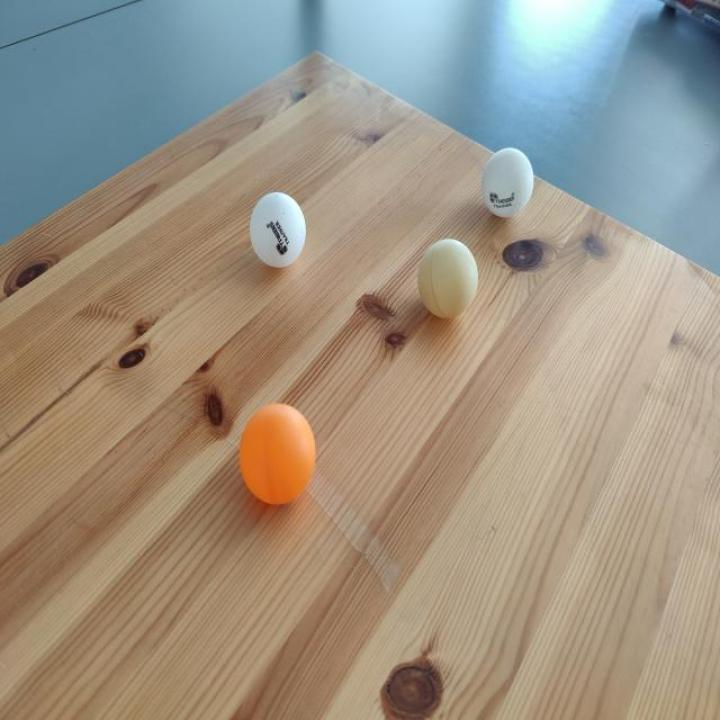orange: (236, 405, 318, 509)
white: (417, 240, 480, 322), (248, 192, 308, 271), (481, 149, 537, 221)
